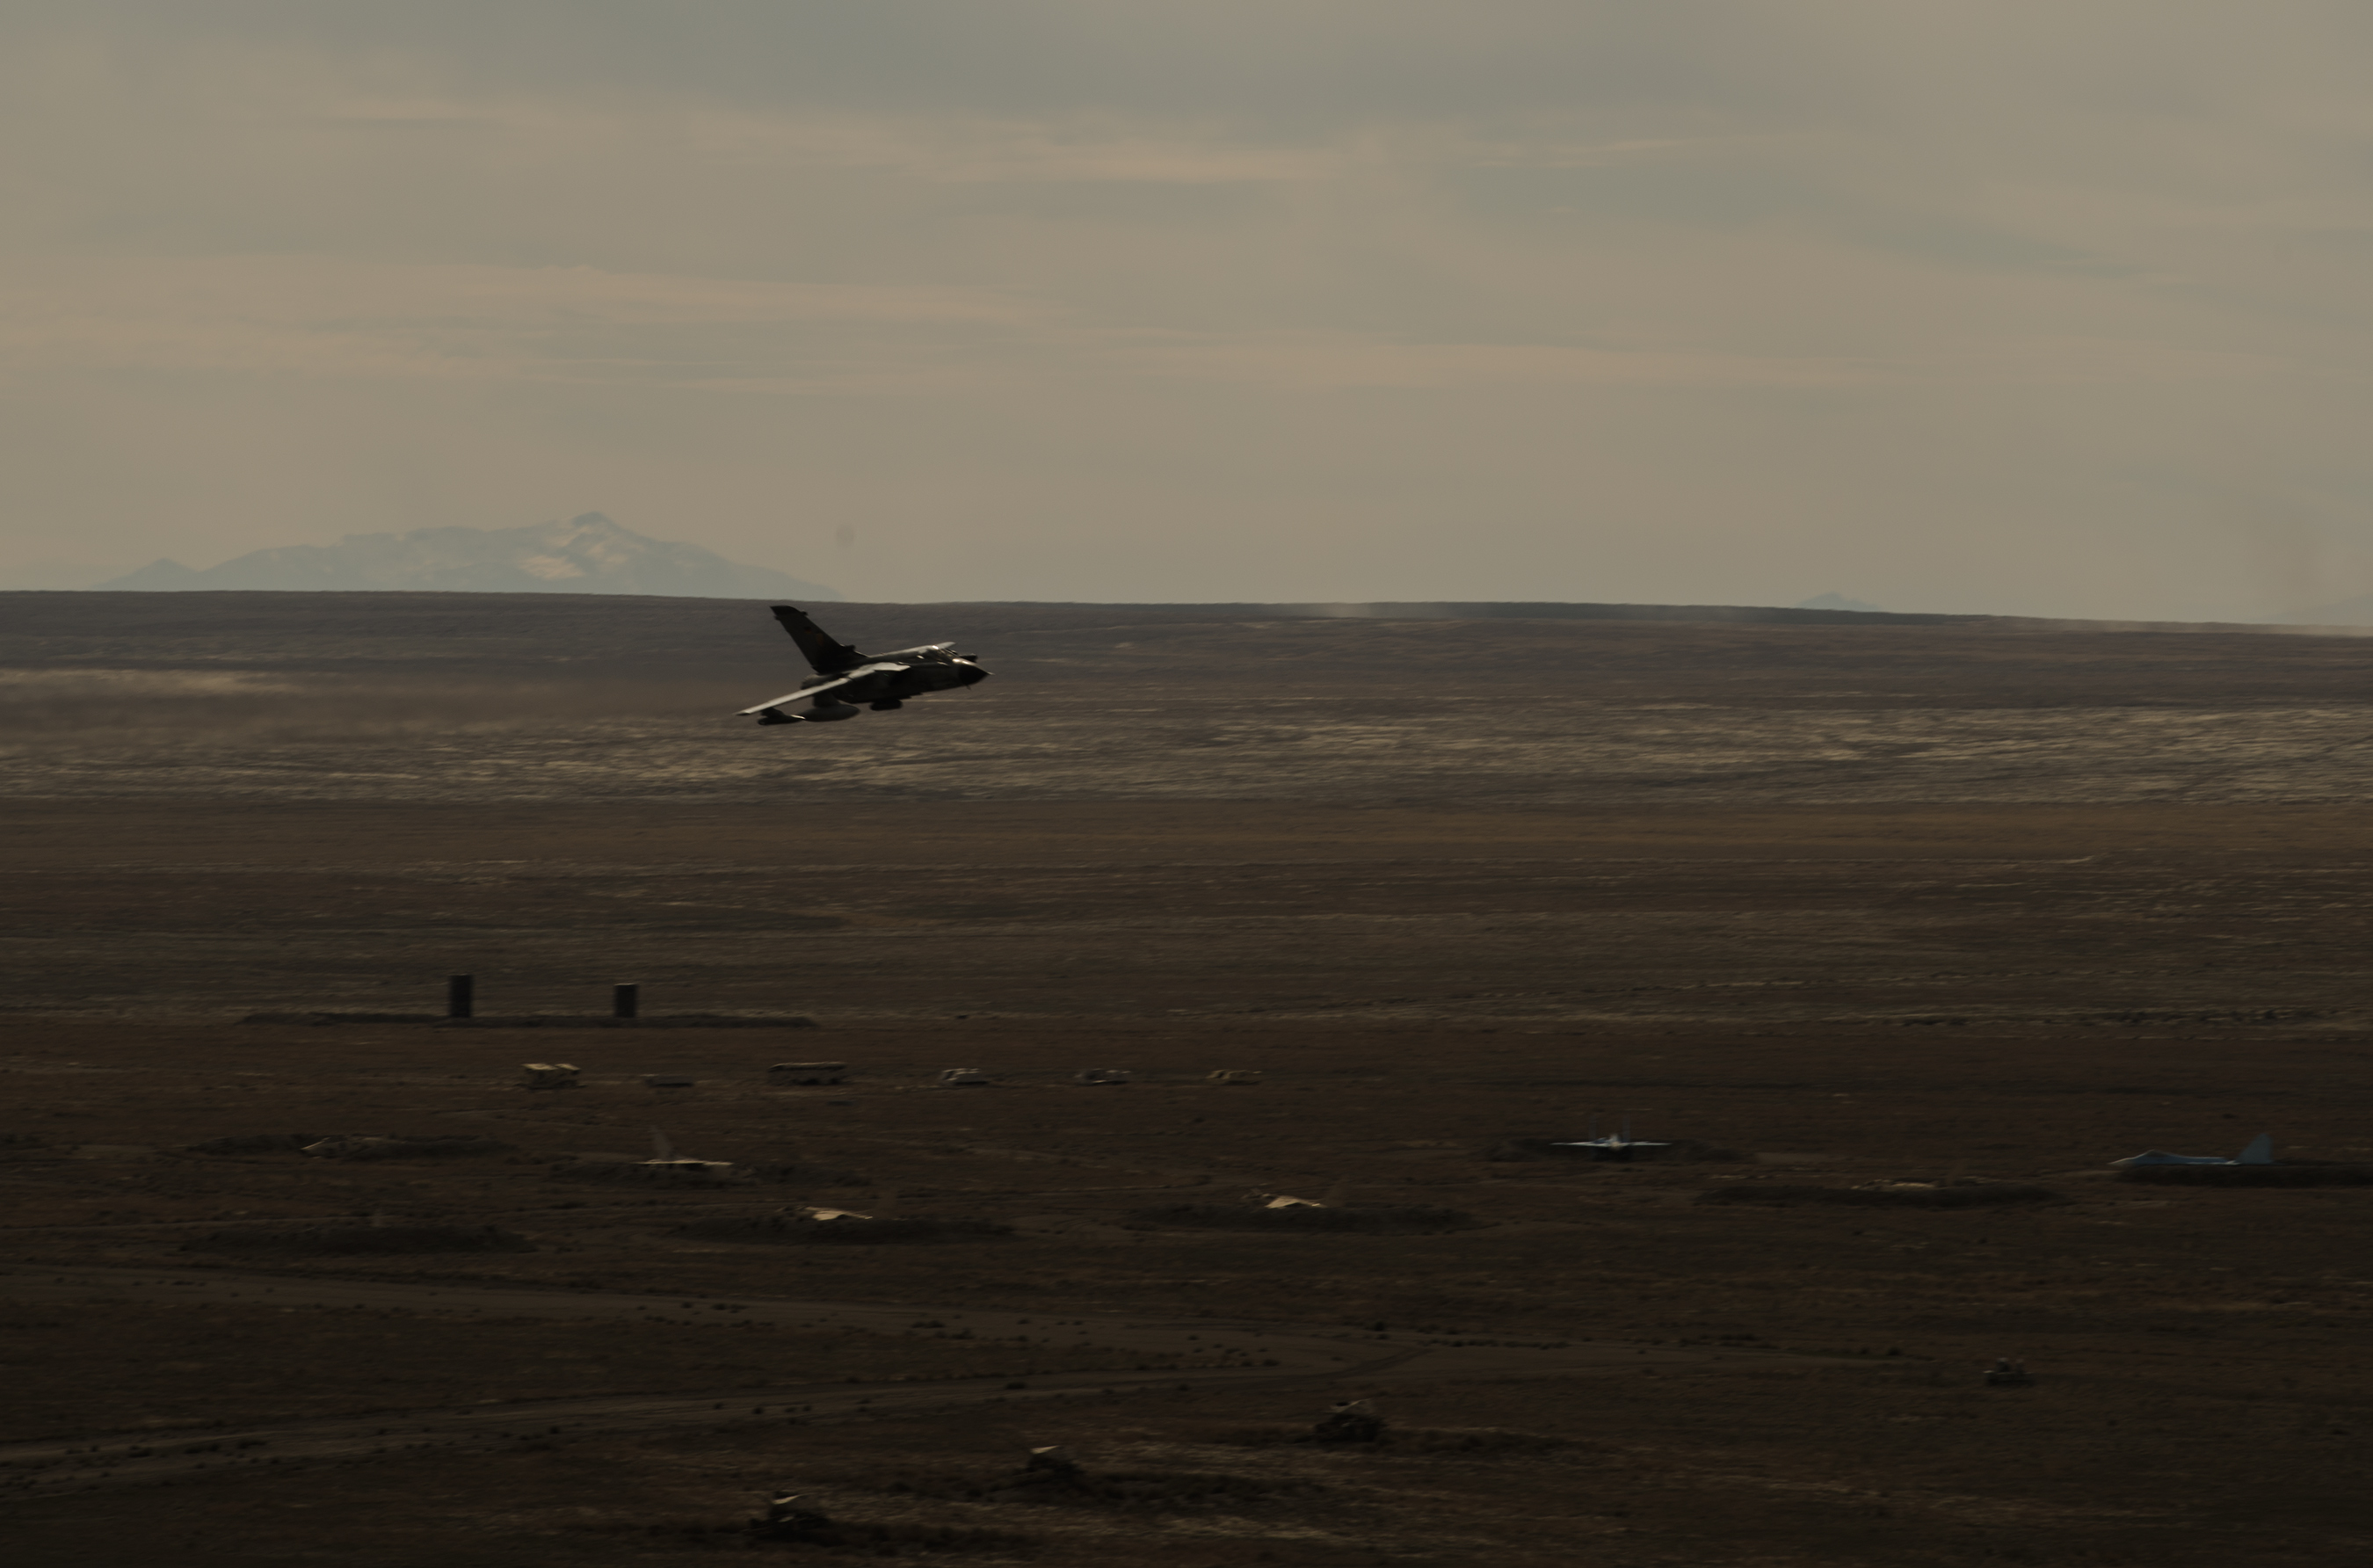Tornado: (730, 605, 996, 726)
